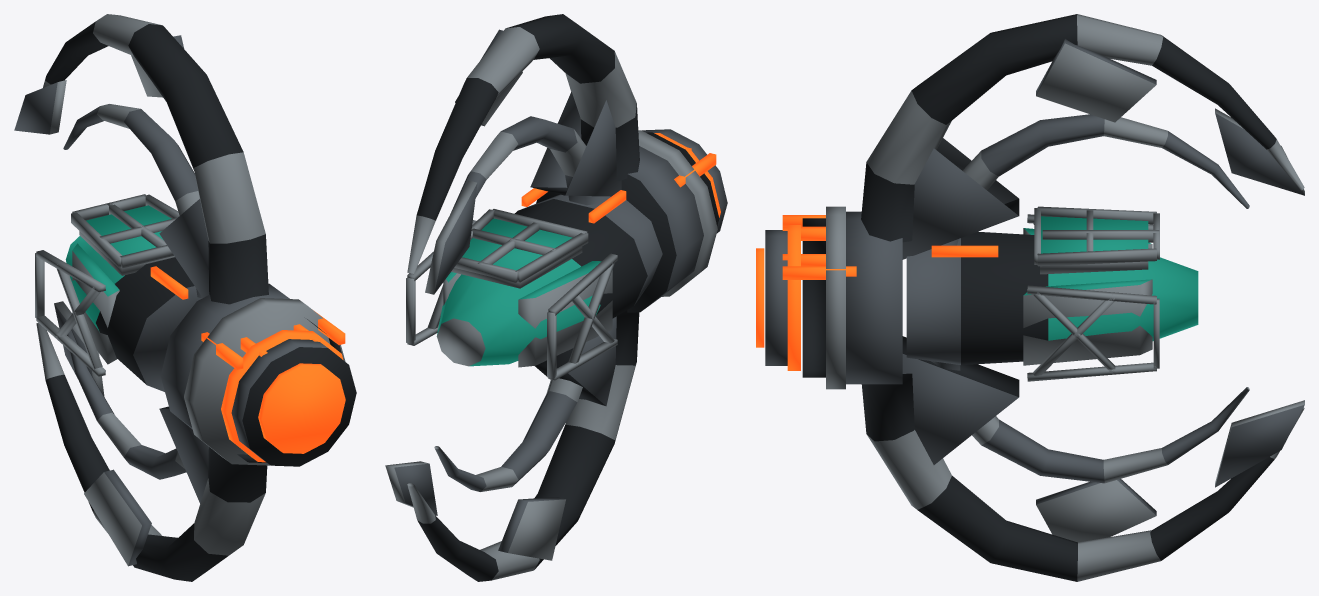
The model's file is DRONE_v2.glb.
The picture shows the model from 3 angles, left to right: view 1: azimuth 30°, elevation 25°; view 2: azimuth 150°, elevation 25°; view 3: azimuth 270°, elevation 25°; orthographic projection. The views are drawn at different scales.
Visible parts, largest first — view 1: DRONE_v2; view 2: DRONE_v2; view 3: DRONE_v2.
Boxes of the visible parts, bbox=[...] form: DRONE_v2: bbox=[14, 14, 356, 581]; DRONE_v2: bbox=[385, 14, 727, 581]; DRONE_v2: bbox=[756, 14, 1304, 581].
Size of the model in its own units: 0.2144 by 0.7279 by 0.6421.
